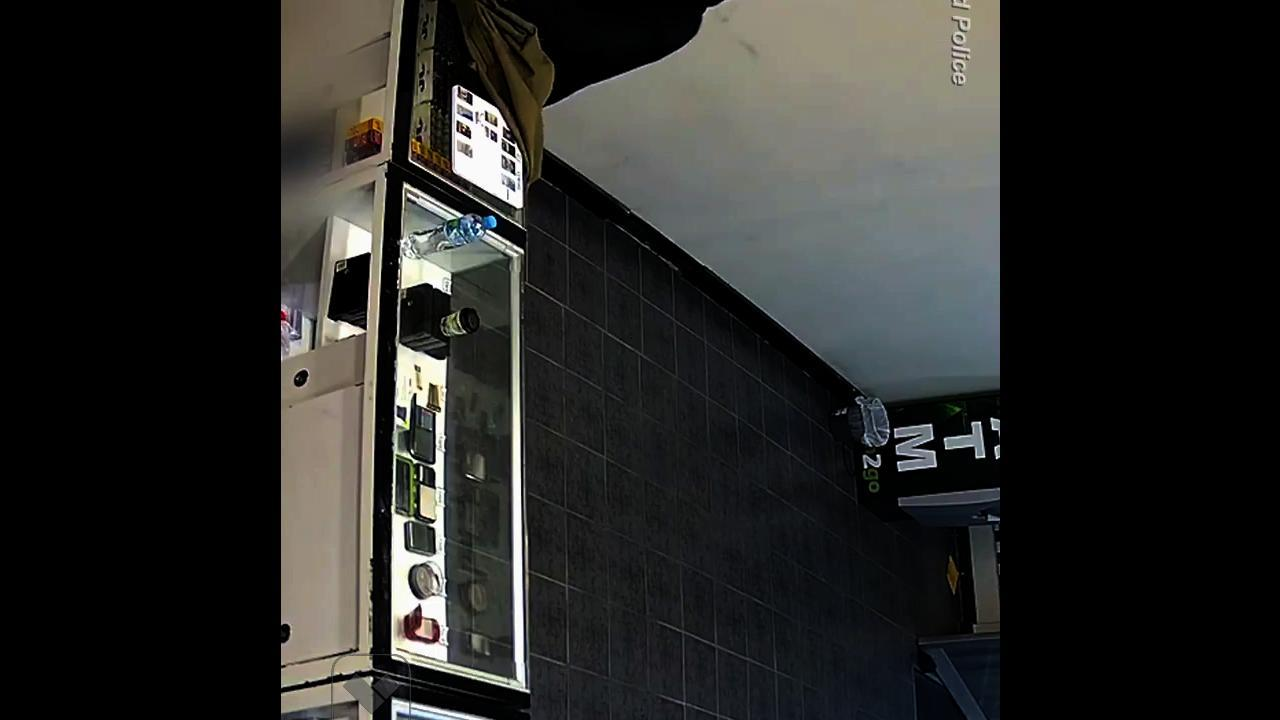melee: (572, 0, 730, 26)
